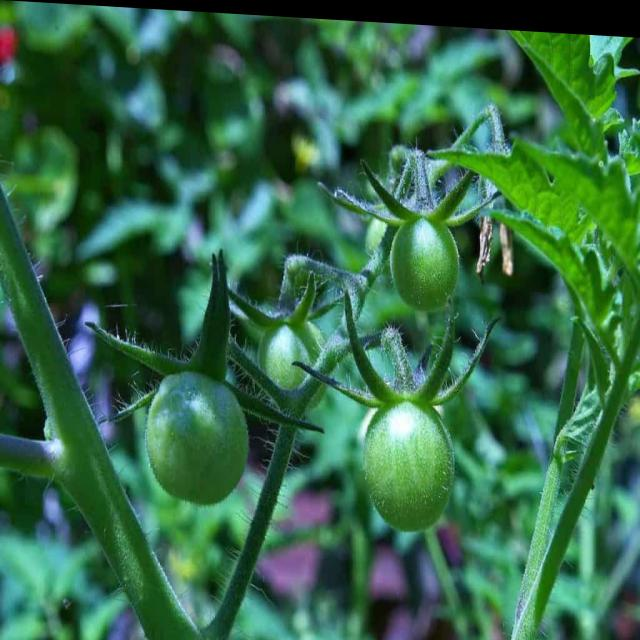yesil: (328, 356, 458, 523), (145, 347, 256, 515), (378, 196, 472, 311)
